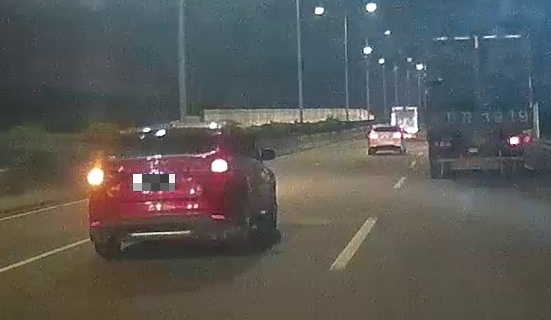L_light: (87, 167, 111, 186), (433, 141, 449, 146)
R_light: (205, 158, 230, 175), (506, 137, 522, 144)
T_light: (151, 128, 175, 135), (469, 38, 485, 44)
night-left: (86, 123, 236, 259)
night-right: (425, 34, 527, 179)
plate_1: (133, 174, 175, 191)
